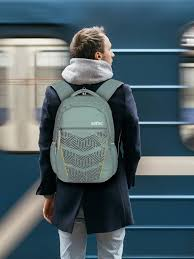backpack: (48, 78, 124, 184)
